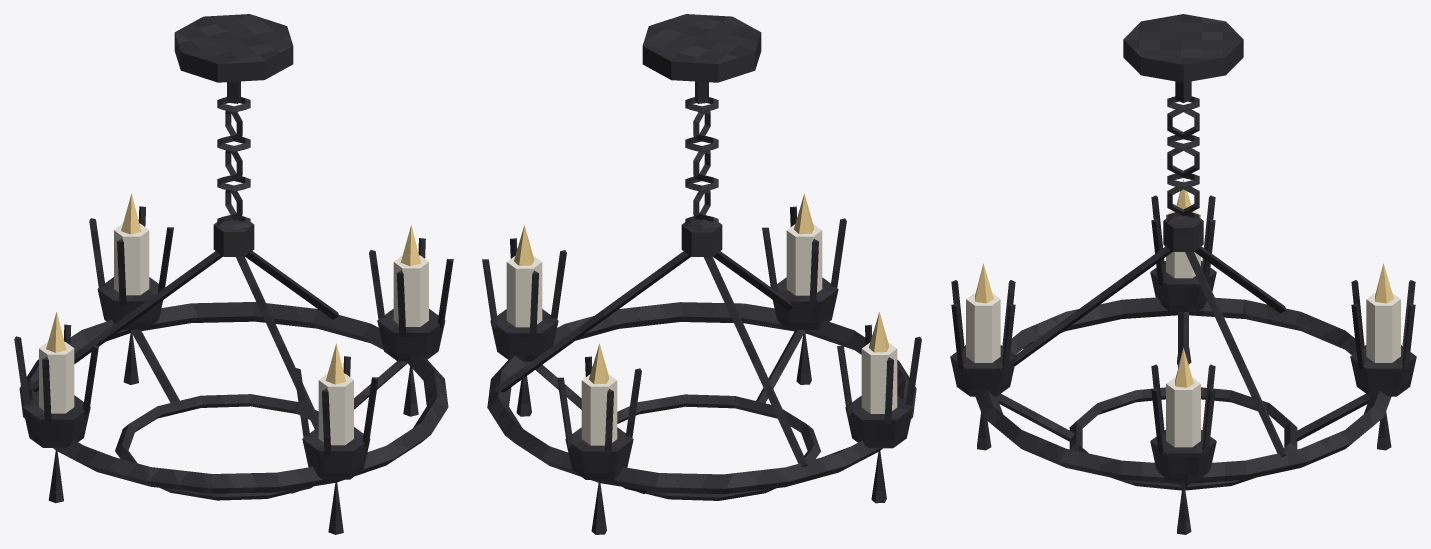
File: lantern_hanging.obj
The picture shows the model from 3 angles, left to right: view 1: azimuth 30°, elevation 25°; view 2: azimuth 150°, elevation 25°; view 3: azimuth 270°, elevation 25°; orthographic projection. The views are drawn at different scales.
Visible parts, largest first — view 1: lantern_hanging; view 2: lantern_hanging; view 3: lantern_hanging.
Part boxes in pixels (left/top/right/bottom): lantern_hanging: left=14, top=14, right=453, bottom=534; lantern_hanging: left=482, top=14, right=921, bottom=534; lantern_hanging: left=950, top=14, right=1416, bottom=534.
Size of the model in its own units: 0.6964 by 0.675 by 0.7.
